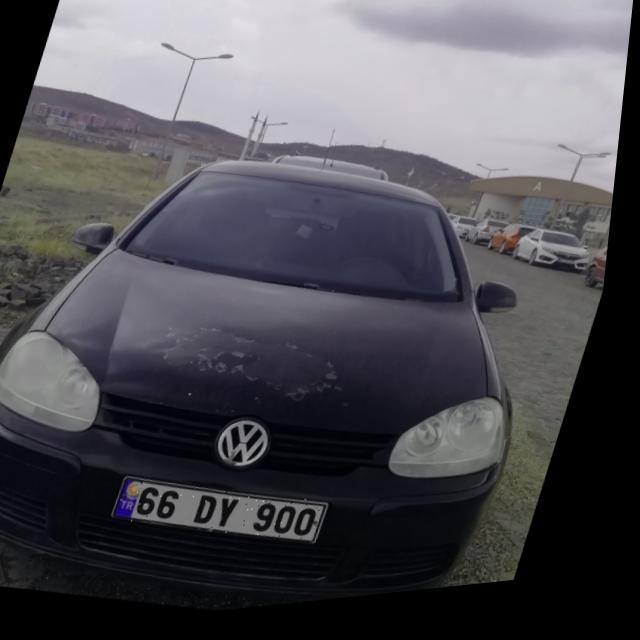license_plate: (121, 466, 344, 569)
